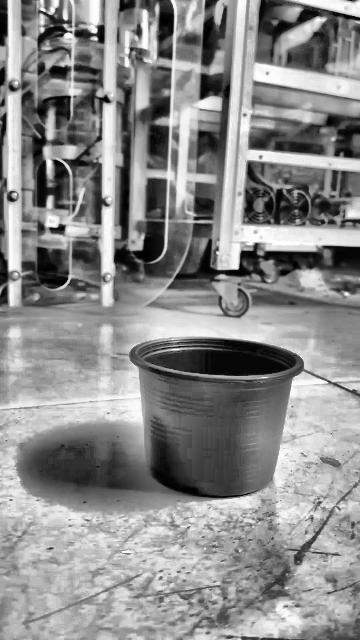pot: (129, 336, 301, 497)
